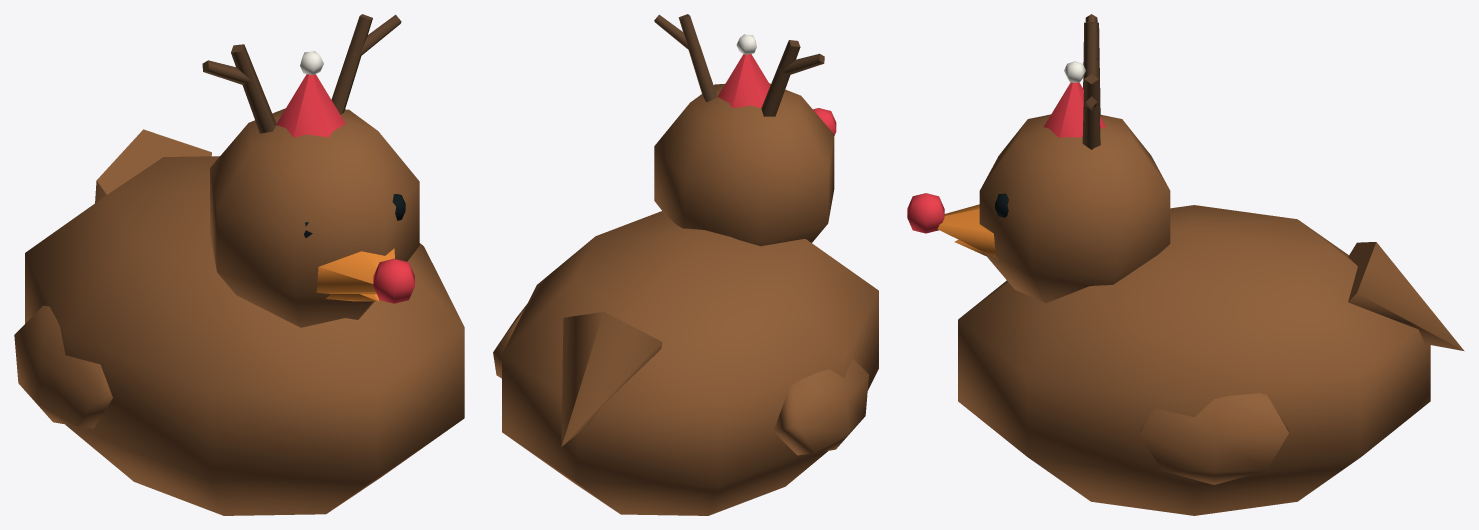
File: duck-reindeer.glb
3 views of the same model, side by side, from view 1: azimuth 30°, elevation 25°; view 2: azimuth 150°, elevation 25°; view 3: azimuth 270°, elevation 25° (orthographic). The views are drawn at different scales.
Visible parts, largest first — view 1: CouncilDuck_reindeer; view 2: CouncilDuck_reindeer; view 3: CouncilDuck_reindeer.
Part boxes in pixels (box(x1,y1,x2,y2)): CouncilDuck_reindeer: box(14, 14, 464, 515); CouncilDuck_reindeer: box(493, 14, 878, 515); CouncilDuck_reindeer: box(907, 14, 1464, 515).
Bounding box in the file's own units: 2.46 × 2.96 × 3.36.
